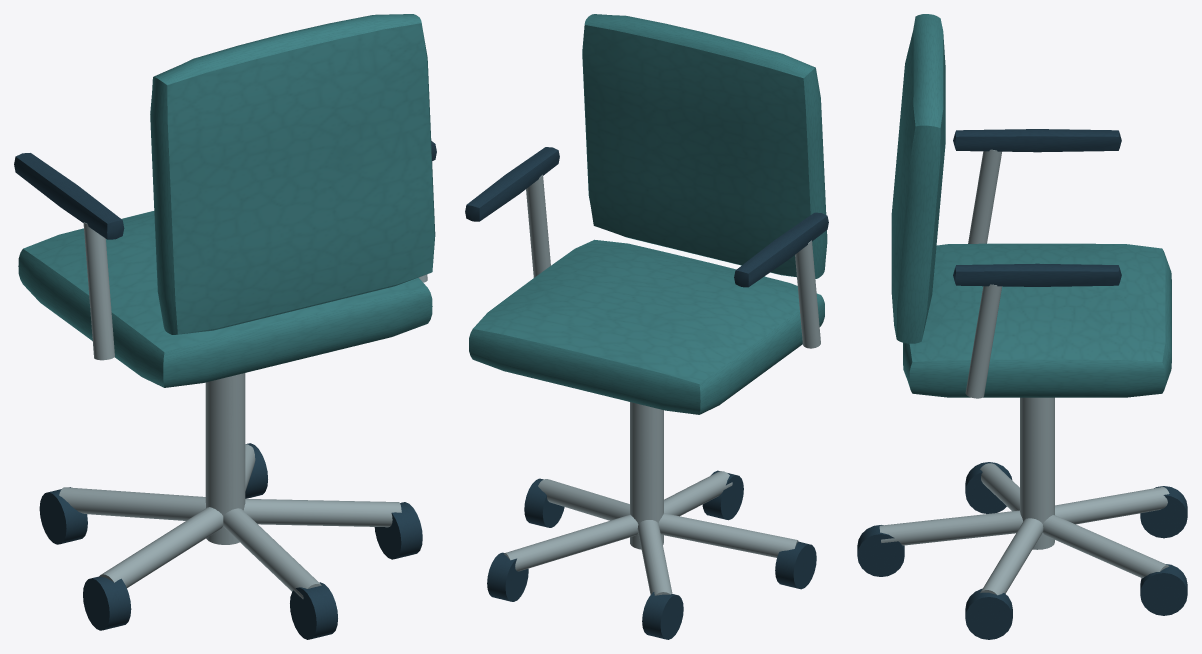
File: chair.glb
3 renders of one model, left to right at view 1: azimuth 30°, elevation 25°; view 2: azimuth 150°, elevation 25°; view 3: azimuth 270°, elevation 25°, orthographic. The views are drawn at different scales.
Parts seen in each view (by area): view 1: chair; view 2: chair; view 3: chair.
Part boxes in pixels (bbox=[...]): chair: bbox=[14, 14, 436, 639]; chair: bbox=[465, 14, 828, 639]; chair: bbox=[857, 14, 1187, 639].
Bounding box in the file's own units: 0.545 × 0.9053 × 0.5283.
17 materials, 17 textured.
